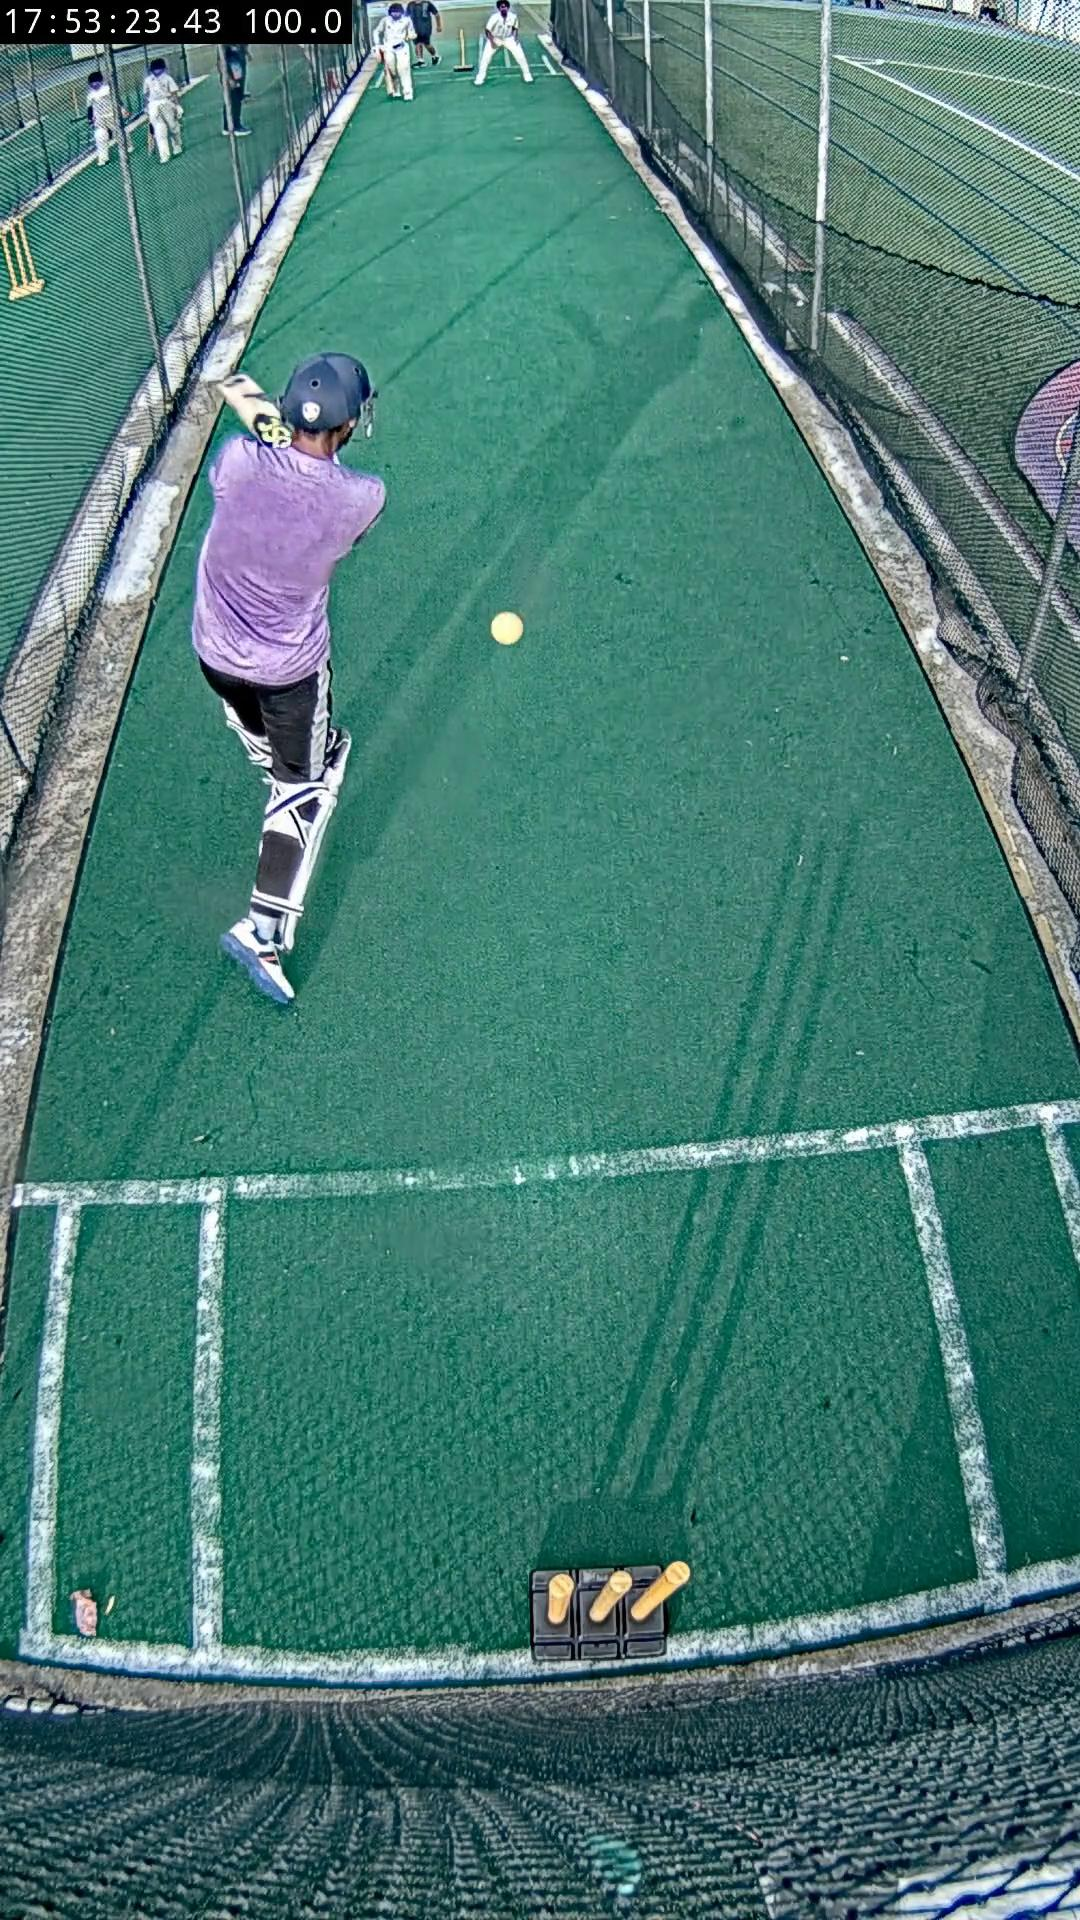ball: (492, 612, 525, 645)
bat: (218, 375, 293, 446)
helmet: (277, 352, 372, 431)
pads: (277, 728, 352, 948)
stumps: (529, 1560, 690, 1662)
